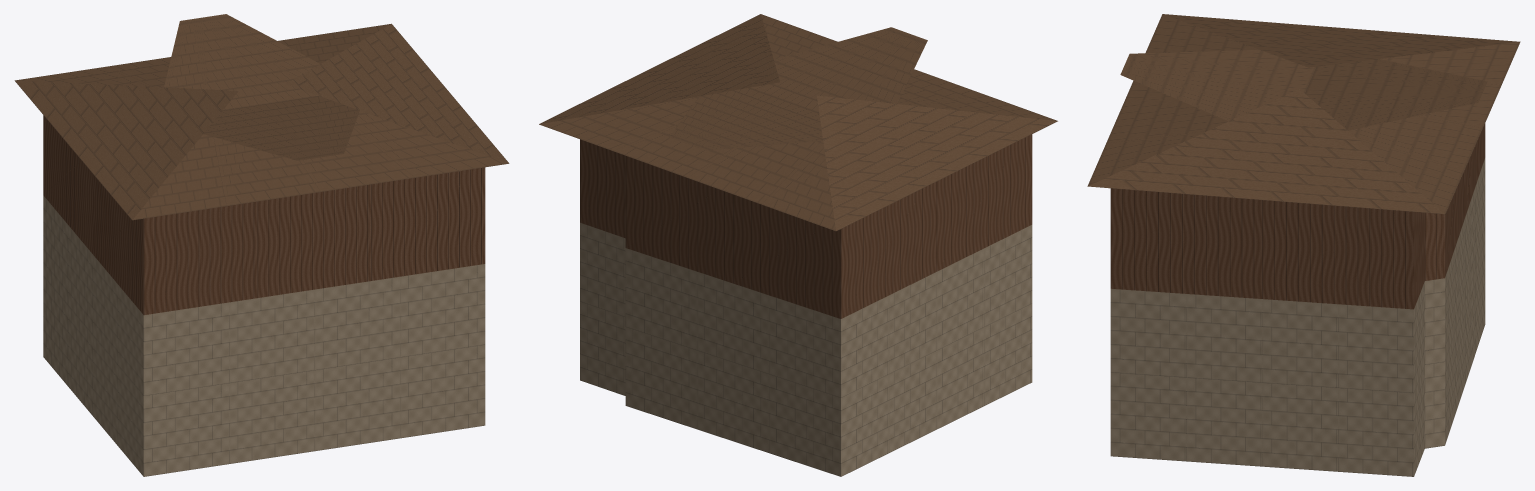
File: bld_c18_-45_635.gltf
The picture shows the model from 3 angles, left to right: view 1: azimuth 30°, elevation 25°; view 2: azimuth 150°, elevation 25°; view 3: azimuth 270°, elevation 25°; orthographic projection. The views are drawn at different scales.
Parts seen in each view (by area): view 1: bld_c18_-45_635; view 2: bld_c18_-45_635; view 3: bld_c18_-45_635.
Part boxes in pixels (x1=…): bld_c18_-45_635: x1=14, y1=14, x2=509, y2=476; bld_c18_-45_635: x1=539, y1=14, x2=1057, y2=476; bld_c18_-45_635: x1=1087, y1=14, x2=1520, y2=476.
Bounding box in the file's own units: 11.96 × 8.7 × 10.93.
3 materials, 3 textured.
